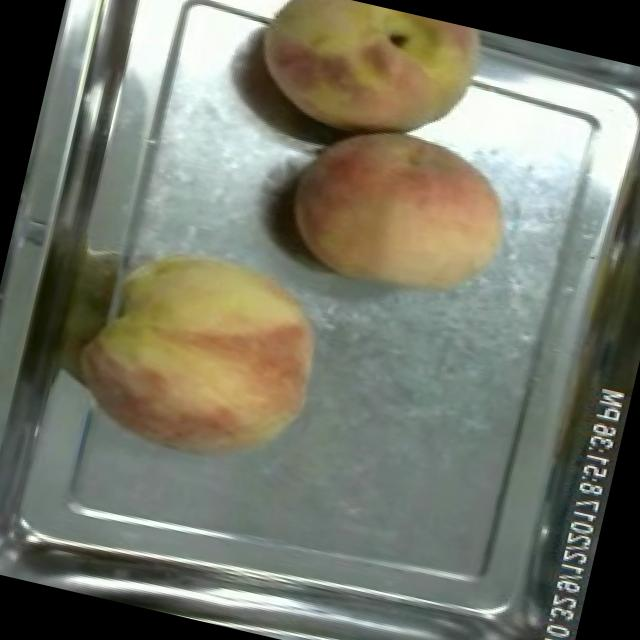Fruit: (57, 219, 346, 487), (268, 100, 530, 320), (234, 0, 500, 173)
